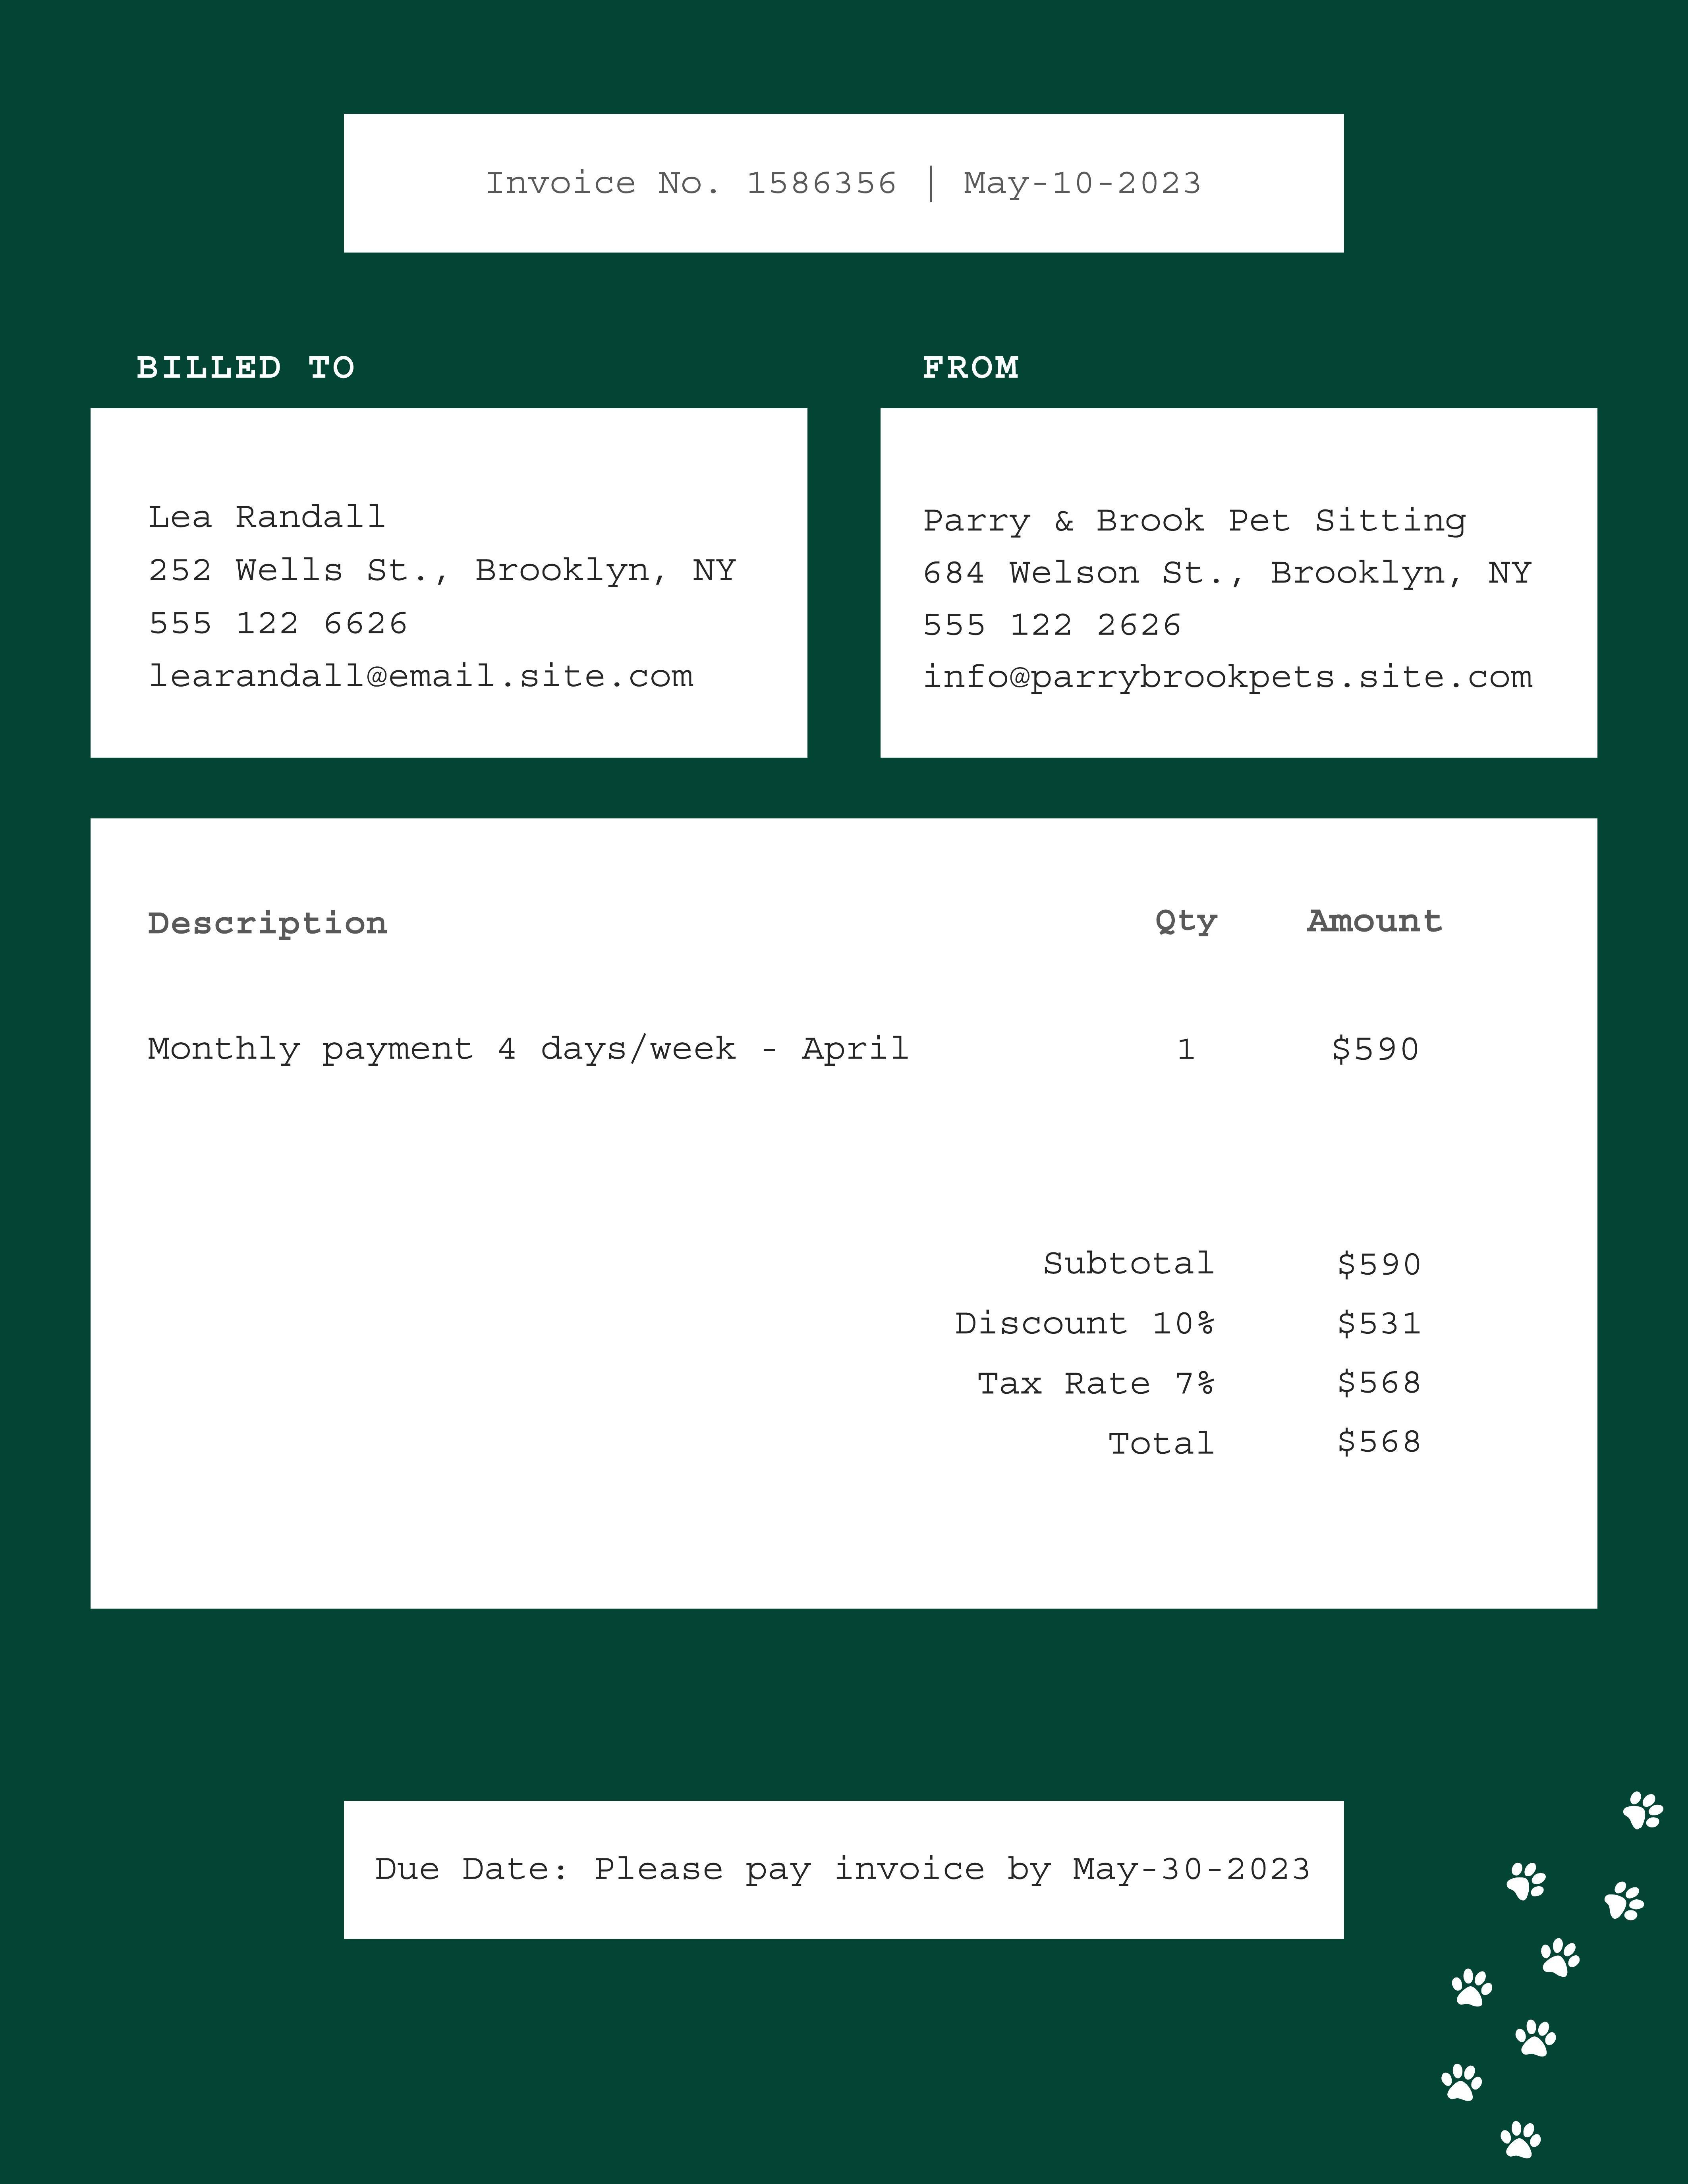ROI: (138, 899, 1514, 1090), (122, 339, 781, 710), (914, 339, 1555, 708), (939, 1216, 1463, 1492), (453, 135, 1269, 226), (363, 1838, 1317, 1910)
